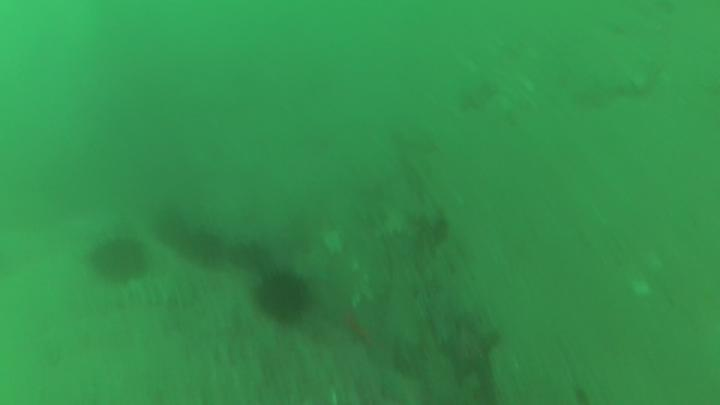echinus: (89, 235, 144, 283), (260, 275, 311, 325), (151, 213, 191, 250), (181, 234, 228, 264), (232, 244, 263, 271)
starfish: (442, 320, 500, 386)
